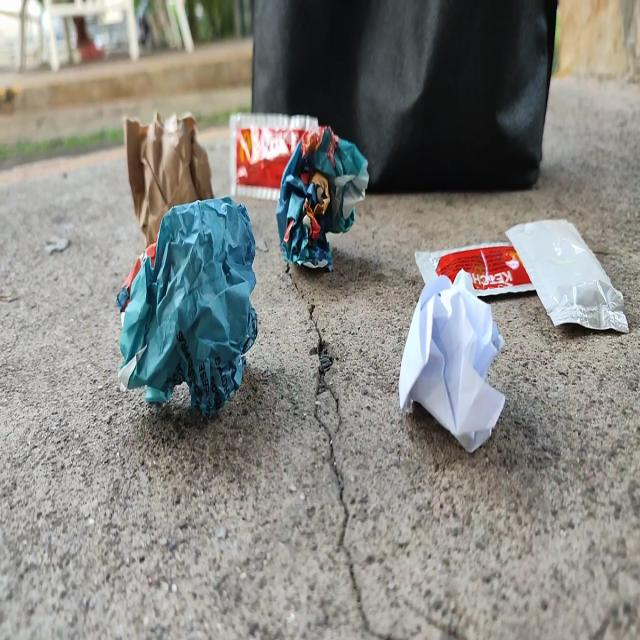paper: (114, 187, 263, 438), (395, 271, 512, 464), (112, 93, 219, 264), (270, 120, 373, 290)
